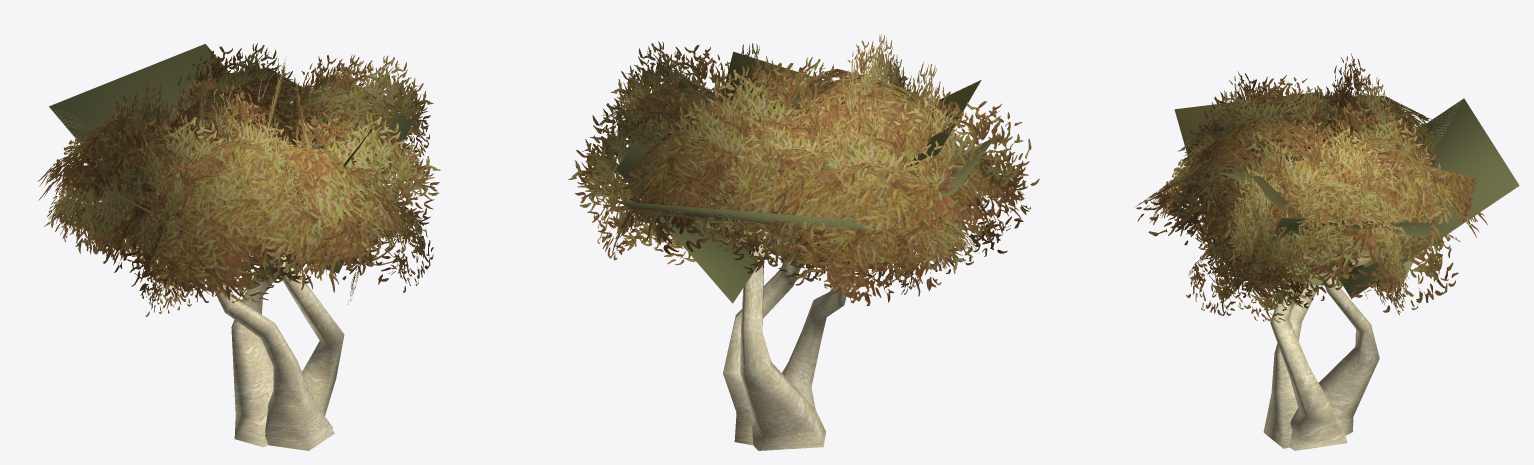
File: decd_windswept_l1.fbx
The picture shows the model from 3 angles, left to right: view 1: azimuth 30°, elevation 25°; view 2: azimuth 150°, elevation 25°; view 3: azimuth 270°, elevation 25°; orthographic projection. The views are drawn at different scales.
Parts seen in each view (by area): view 1: mesh_node; view 2: mesh_node; view 3: mesh_node.
Boxes of the visible parts, left/top/right/bottom form: mesh_node: left=37, top=43, right=440, bottom=450; mesh_node: left=568, top=34, right=1039, bottom=450; mesh_node: left=1134, top=53, right=1519, bottom=450.
Bounding box in the file's own units: 5.78 × 5.26 × 5.42.
